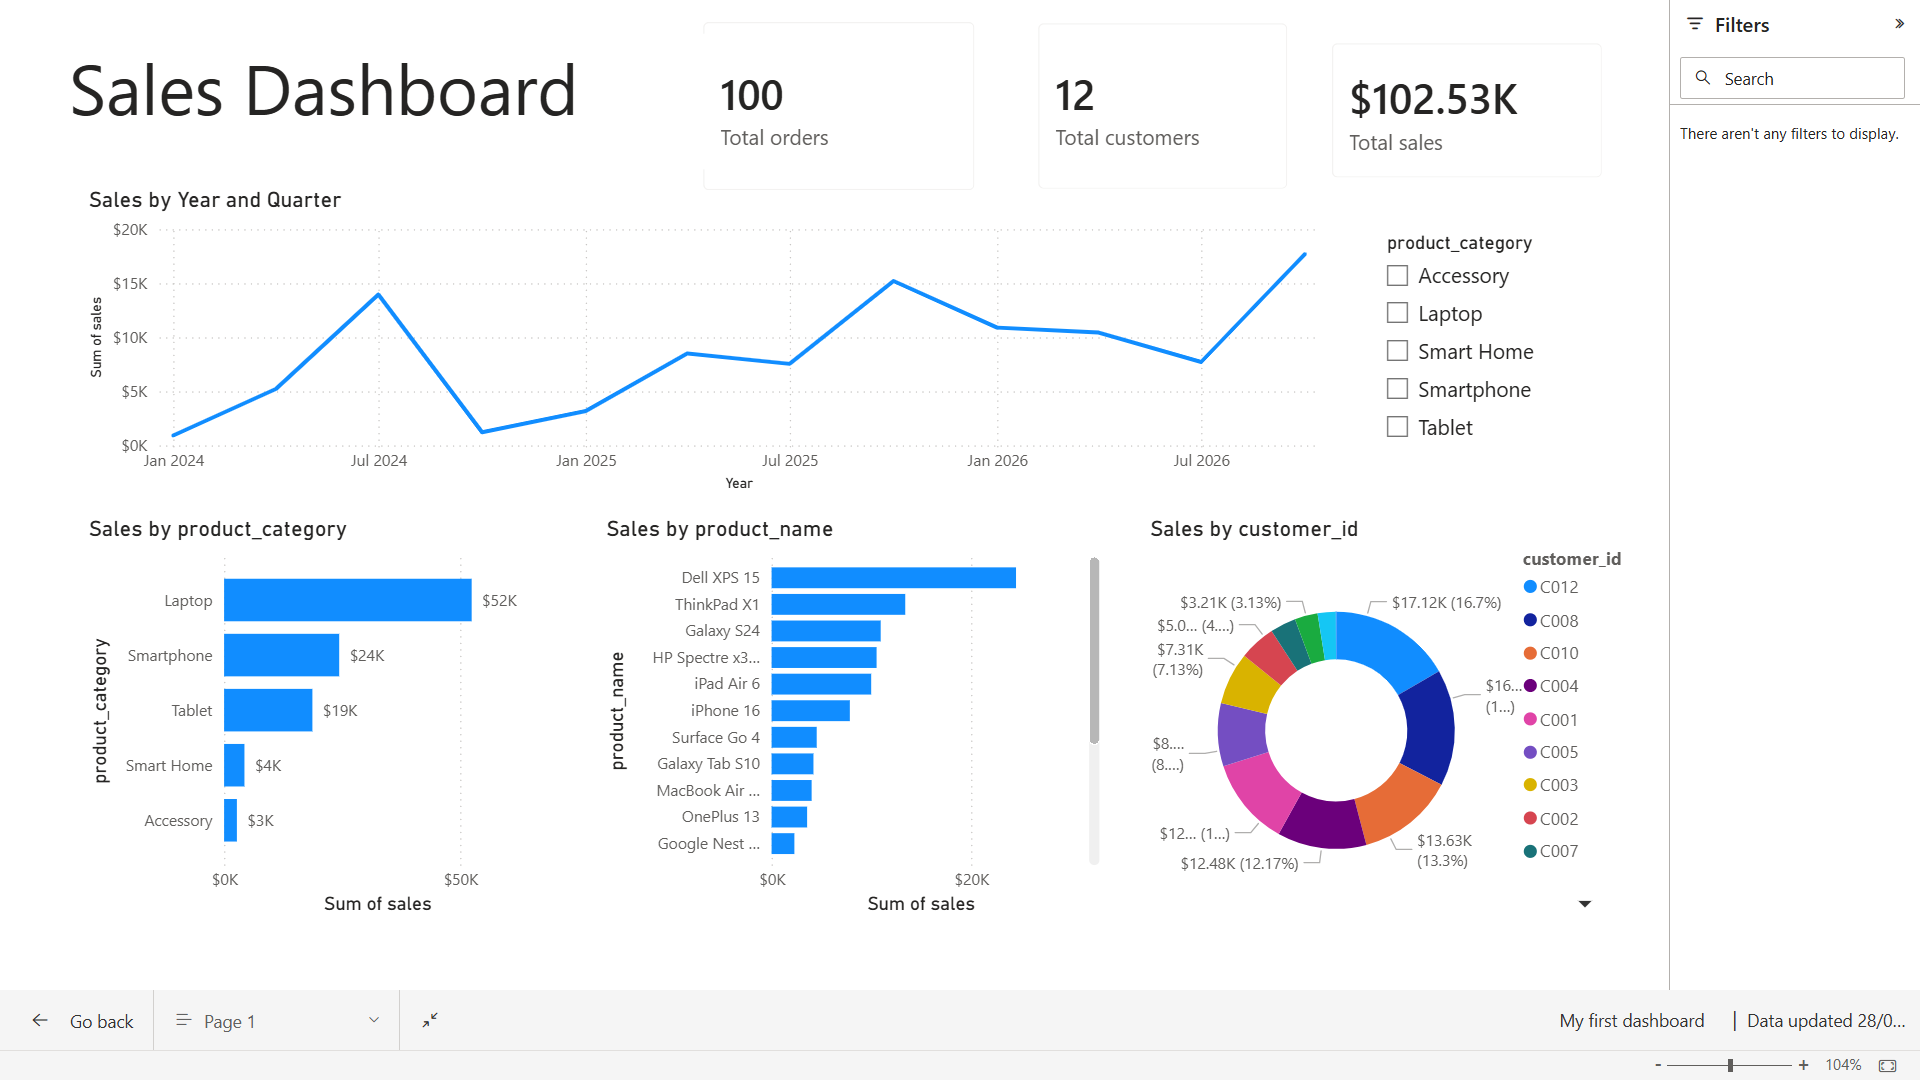

The dashboard page shown, as its layout file describes it:
{"tool":"powerbi","page":{"name":"Page 1","canvas":[1280,720],"ordinal":0},"visuals":[{"type":"barChart","title":"Sales by product_category","fields":{"Y":["Sum(orders.sales)"],"Category":["orders.product_category"]},"box":[63.1,395.2,363.6,311.5],"z":0},{"type":"barChart","title":"Sales by product_name","fields":{"Y":["Sum(orders.sales)"],"Category":["orders.product_name"]},"box":[459.7,395.2,388.3,311.5],"z":1000},{"type":"lineChart","title":"Sales by Year and Quarter","fields":{"Category":["orders.order_date.Variation.Date Hierarchy.Year","orders.order_date.Variation.Date Hierarchy.Quarter"],"Y":["Sum(orders.sales)"]},"box":[63.1,142.7,964.7,238.8],"z":2000},{"type":"donutChart","title":"Sales by customer_id","fields":{"Y":["Sum(orders.sales)"],"Category":["orders.customer_id"]},"box":[876.8,395.2,389.7,311.5],"z":3000},{"type":"cardVisual","fields":{"Data":["Count(orders.customer_id)"]},"box":[779.4,1.4,225,161.9],"z":4000},{"type":"cardVisual","fields":{"Data":["Sum(orders.sales)"]},"box":[1004.5,16.5,241.5,137.2],"z":5000},{"type":"cardVisual","fields":{"Data":["CountNonNull(orders.order_id)"]},"box":[522.8,0,242.9,163.3],"z":6000},{"type":"textbox","box":[48,26.1,496.7,104.3],"z":7000},{"type":"slicer","fields":{"Values":["orders.product_category"]},"box":[1051.1,172.9,229.2,186.6],"z":8000}]}

Visuals, with their boxes on the page's 1280x720 design canvas (x1, y1, x2, y2). These are canvas units, not pixel positions in the 1920x1080 screenshot, which may show the page scaled, cropped or inside an application window:
"Sales by product_category" barChart: bbox=(63, 395, 427, 707)
"Sales by product_name" barChart: bbox=(460, 395, 848, 707)
"Sales by Year and Quarter" lineChart: bbox=(63, 143, 1028, 382)
"Sales by customer_id" donutChart: bbox=(877, 395, 1266, 707)
cardVisual - Count(orders.customer_id): bbox=(779, 1, 1004, 163)
cardVisual - Sum(orders.sales): bbox=(1004, 16, 1246, 154)
cardVisual - CountNonNull(orders.order_id): bbox=(523, 0, 766, 163)
textbox: bbox=(48, 26, 545, 130)
slicer - orders.product_category: bbox=(1051, 173, 1280, 360)
